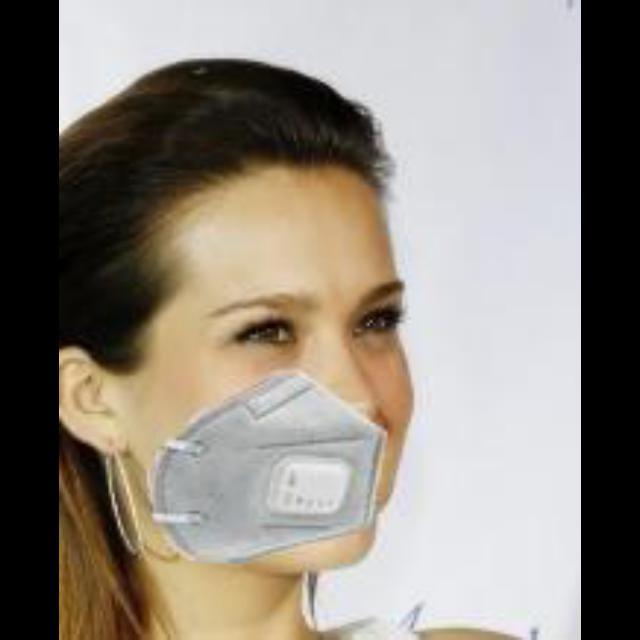suspicion: (92, 114, 436, 560)
